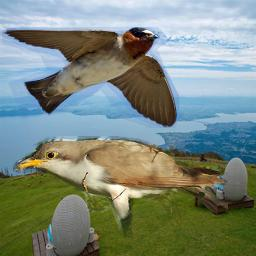Cuckoo: (13, 136, 228, 238)
Swallow: (2, 27, 179, 128)
